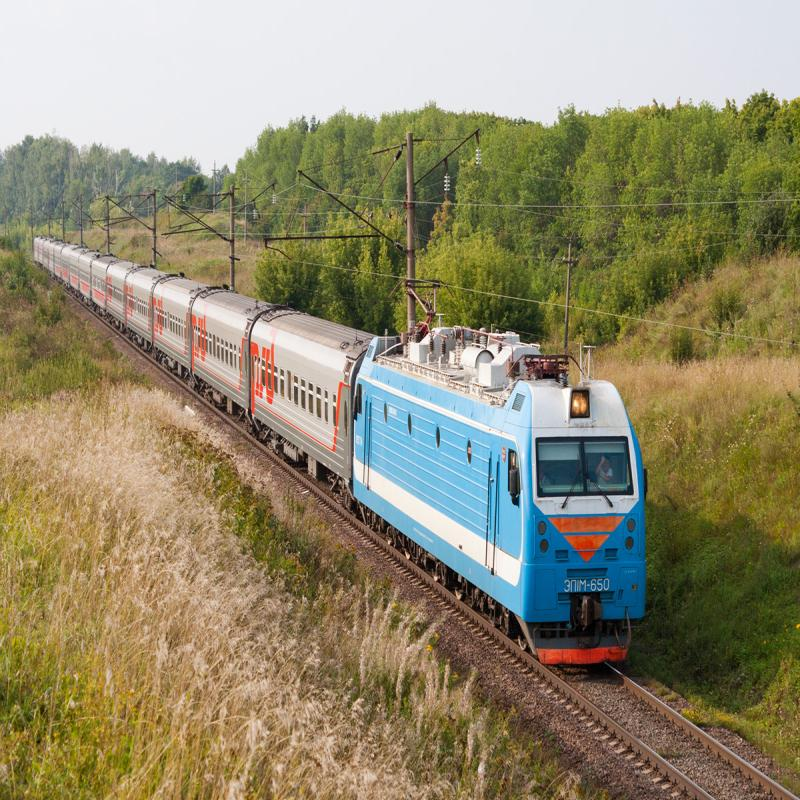train: (354, 288, 662, 682), (247, 271, 381, 519), (192, 247, 269, 442), (153, 238, 219, 384), (125, 253, 176, 353)
